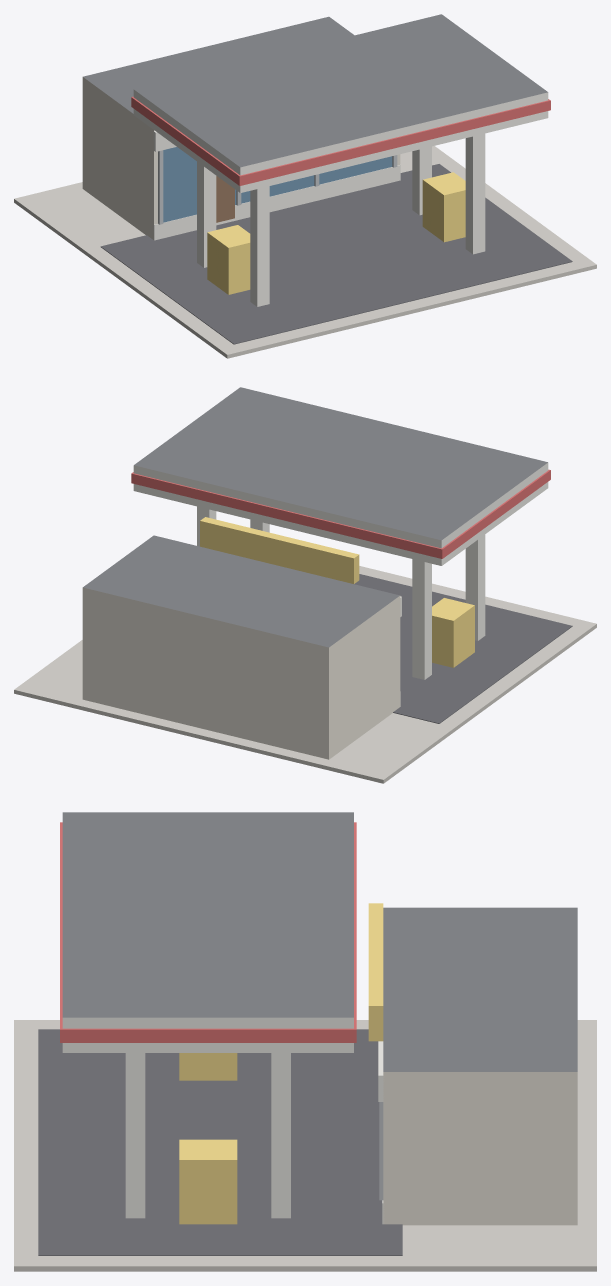
3 views of the same model, one above another, from view 1: azimuth 30°, elevation 25°; view 2: azimuth 150°, elevation 25°; view 3: azimuth 270°, elevation 25° (orthographic). The views are drawn at different scales.
Visible parts, largest first — view 1: c_1_1_c; view 2: c_1_1_c; view 3: c_1_1_c.
Boxes of the visible parts, x1=… form: c_1_1_c: x1=14, y1=14, x2=596, y2=358; c_1_1_c: x1=14, y1=387, x2=596, y2=783; c_1_1_c: x1=14, y1=812, x2=596, y2=1271.
Size of the model in its own units: 12 by 5.3 by 12.
